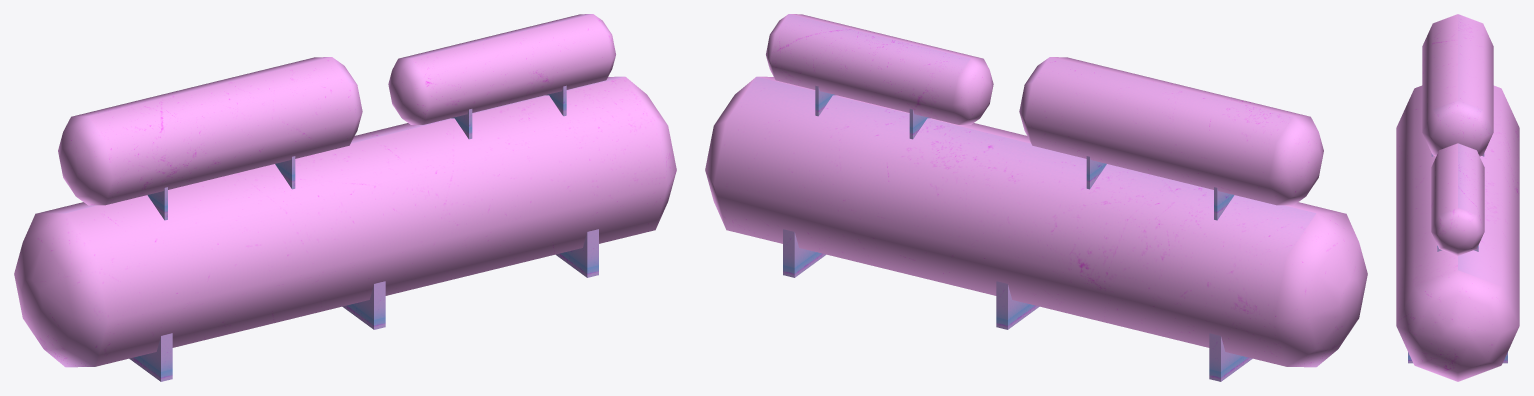
The model's file is Tank_01_SM_Low.fbx.
The picture shows the model from 3 angles, left to right: view 1: azimuth 30°, elevation 25°; view 2: azimuth 150°, elevation 25°; view 3: azimuth 270°, elevation 25°; orthographic projection. The views are drawn at different scales.
Parts seen in each view (by area): view 1: Tank01; view 2: Tank01; view 3: Tank01.
Boxes of the visible parts, x1,y1,x2,y2 form: Tank01: (14, 14, 676, 381); Tank01: (705, 14, 1367, 381); Tank01: (1396, 14, 1519, 381).
Size of the model in its own units: 887 by 338 by 208.
